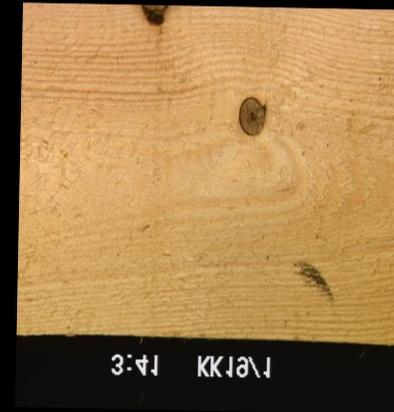dry_knot: (236, 94, 267, 136)
edge_knot: (138, 3, 169, 27)
